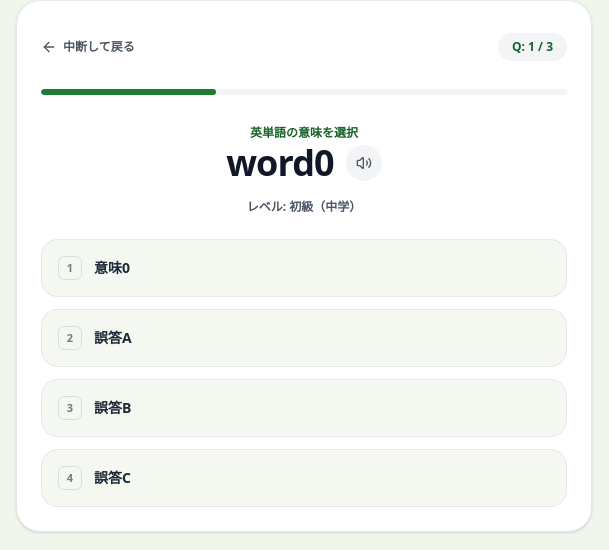
Test: 回答したとき › 正解のときは少しで自動で次へ進む
This screenshot has width=609, height=550.
Step 1. Click the button "1 意味0" → (112, 268), box [41,239,567,297]
Wait 1300 ms
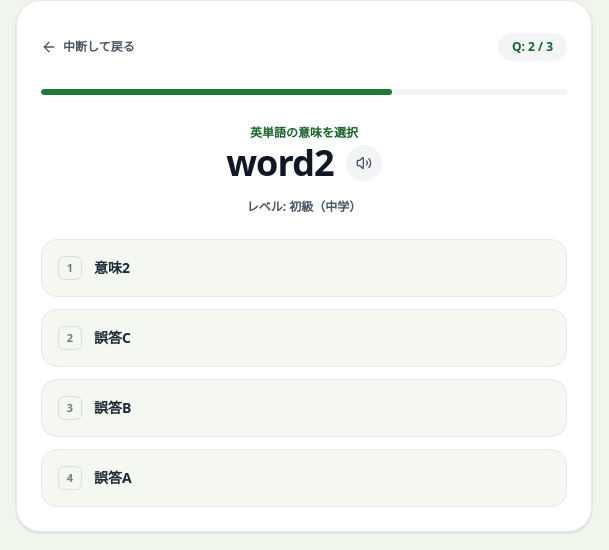
Result: the text "Q: 2 / 3" is shown at [498,33,567,61]
